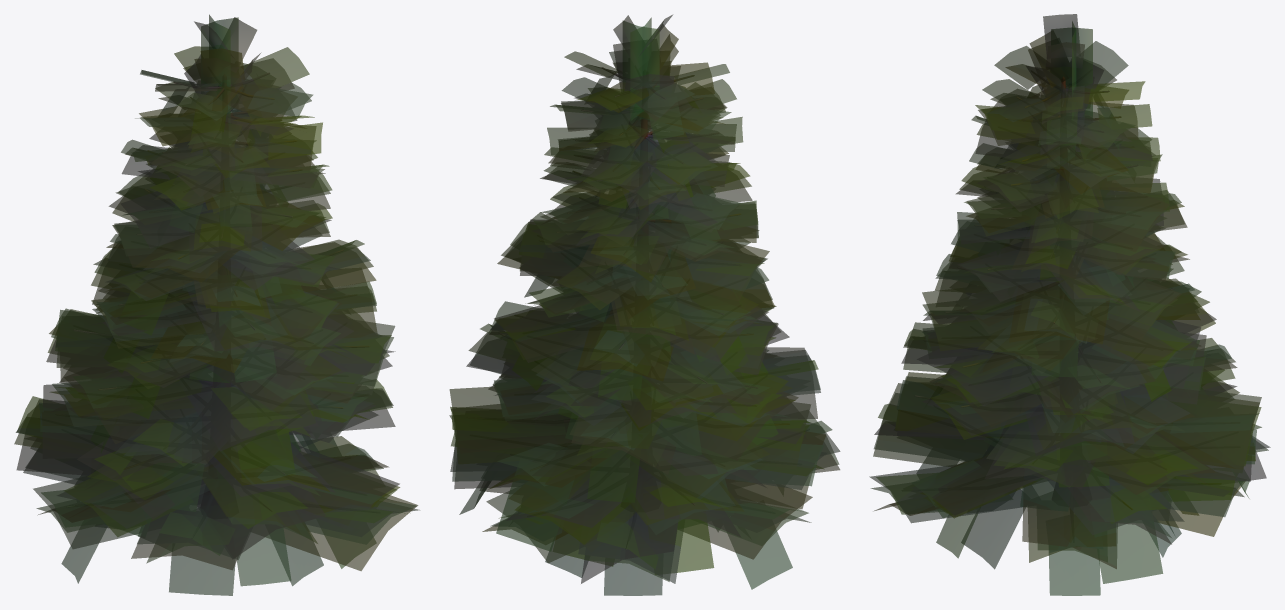
File: veg_spruce_c.glb
3 renders of one model, left to right at view 1: azimuth 30°, elevation 25°; view 2: azimuth 150°, elevation 25°; view 3: azimuth 270°, elevation 25°, orthographic. The views are drawn at different scales.
Visible parts, largest first — view 1: veg_spruce_c_LOD0; view 2: veg_spruce_c_LOD0; view 3: veg_spruce_c_LOD0.
Part boxes in pixels (box(x1,y1,x2,y2)): veg_spruce_c_LOD0: box(14, 14, 419, 595); veg_spruce_c_LOD0: box(449, 15, 840, 595); veg_spruce_c_LOD0: box(869, 14, 1270, 595).
Size of what is drawn, in the model's own units: 1.56 by 2.43 by 1.69.
